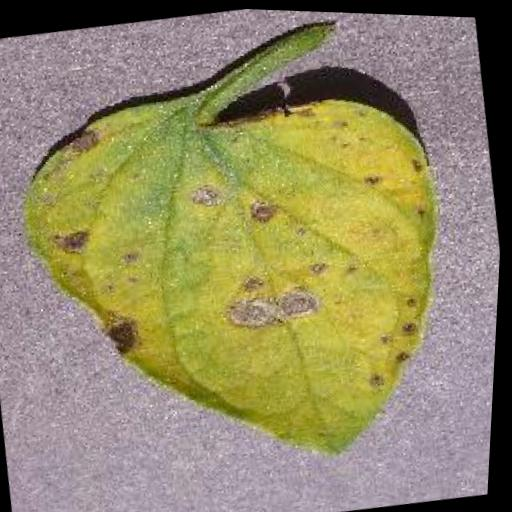Septoria: (0, 39, 480, 499)
